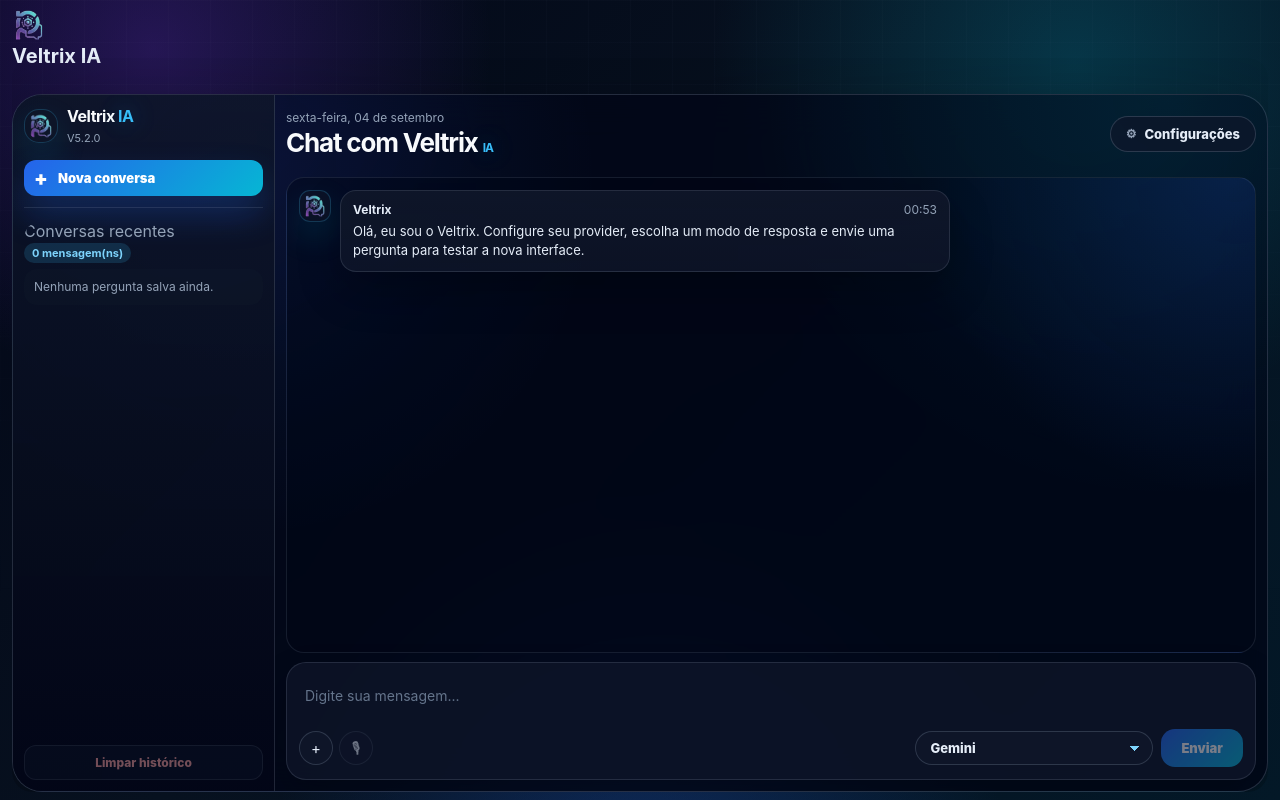
Test case: ChatPage — verdade sobre quem respondeu › falha do Gemini é mostrada como falha do Gemini, não como resposta
Type "Me fale o que foi feito recentemente no sistema." into the text box named "Mensagem para o Veltrix" at (771, 698), box [299,675,1243,721]
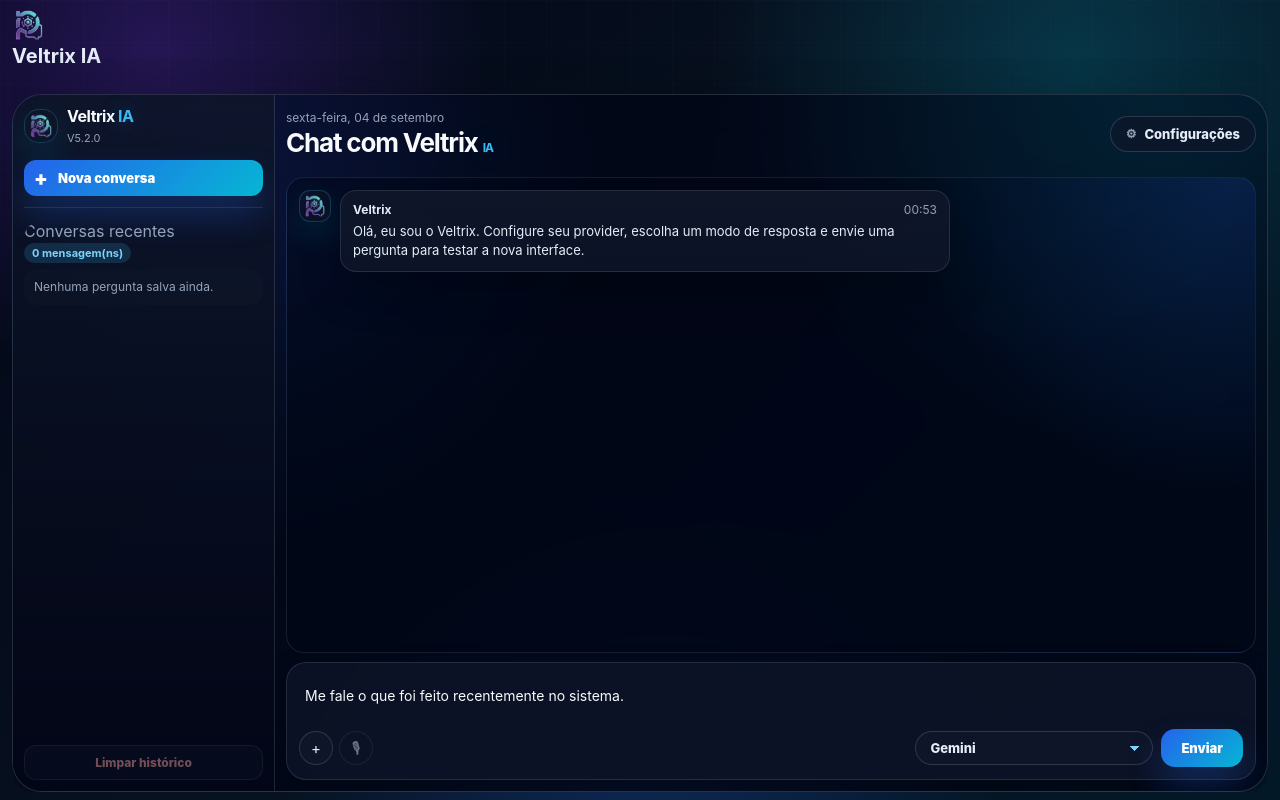
Click the button "Enviar" at (1202, 748), box [1161,729,1243,767]
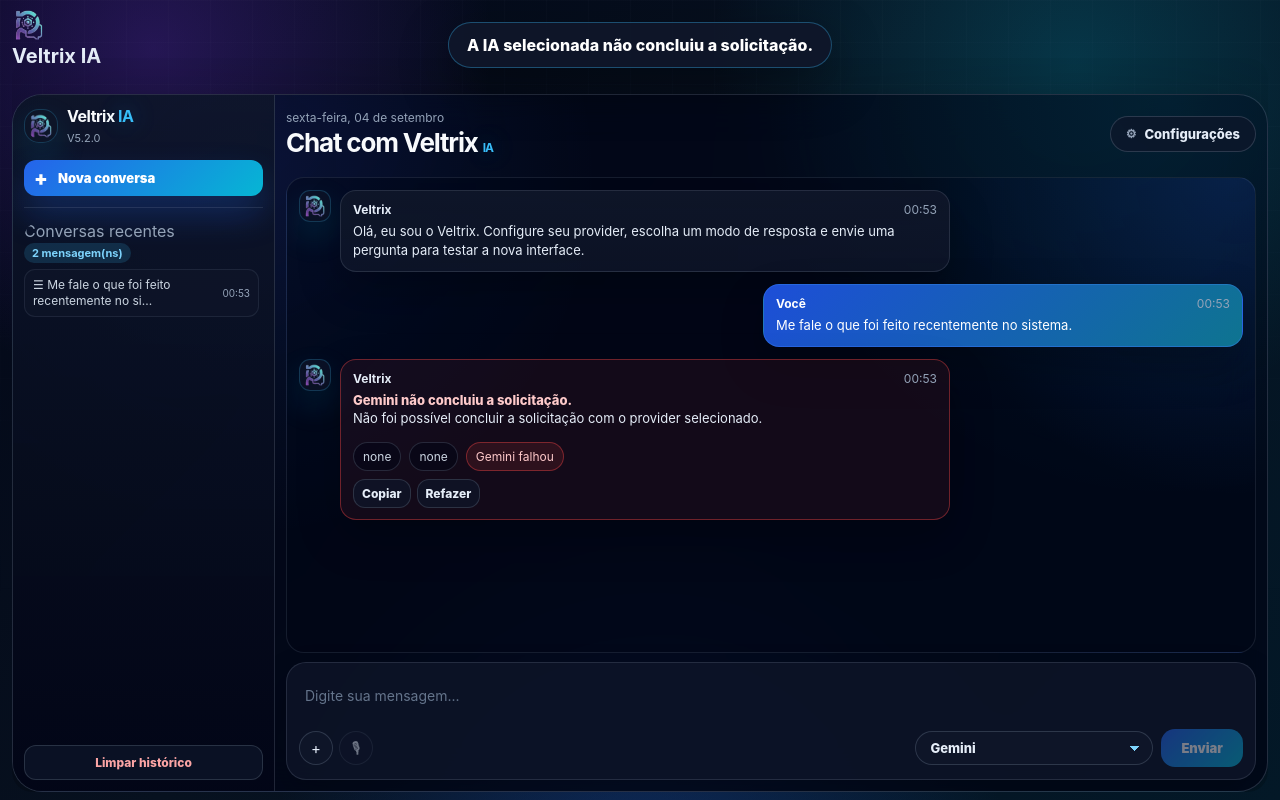
Expected: the text "Gemini não concluiu a solicitação." is shown, [353,392,572,408]
Expected: the text "Gemini falhou" is shown, [466,442,564,471]
